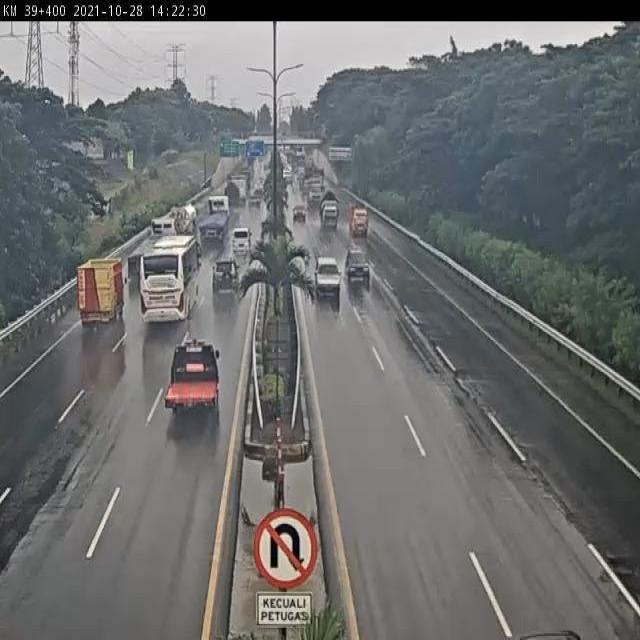car: (314, 256, 340, 300), (212, 259, 240, 295), (344, 244, 369, 280), (232, 228, 252, 253)
truck: (139, 235, 199, 325), (163, 340, 221, 415), (78, 259, 124, 327), (127, 219, 180, 273), (196, 193, 231, 248), (162, 200, 198, 245), (318, 188, 340, 233), (346, 193, 369, 235)
